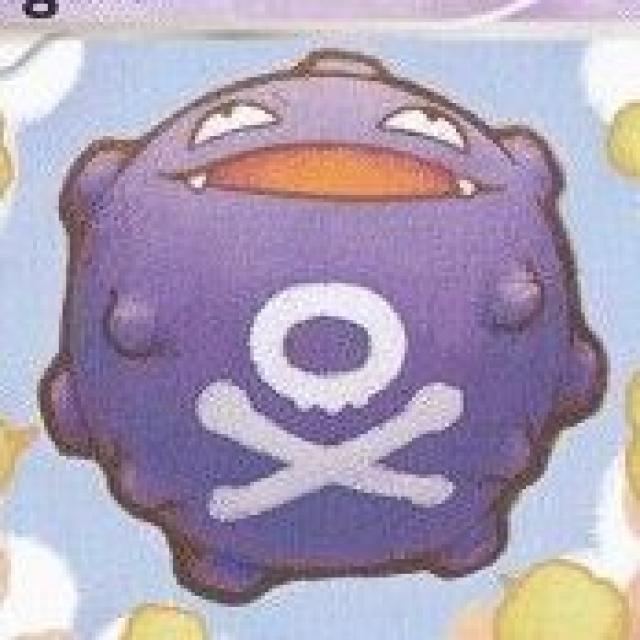Koffing: (41, 40, 608, 590)
